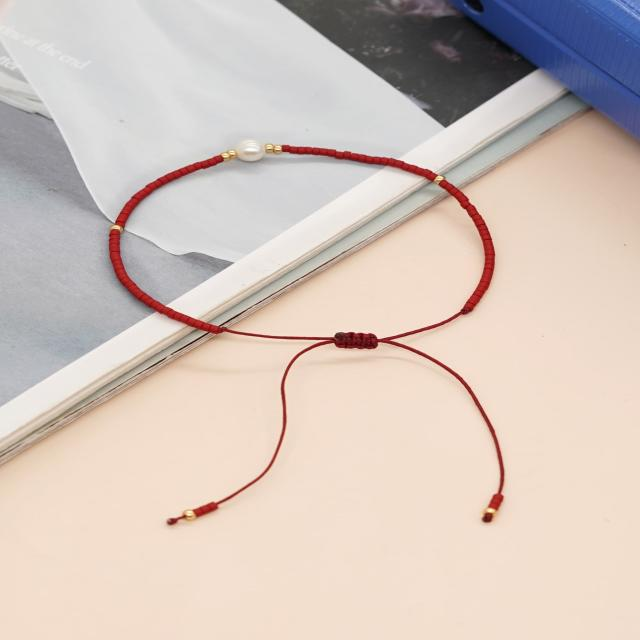bracelet: (50, 73, 583, 550)
